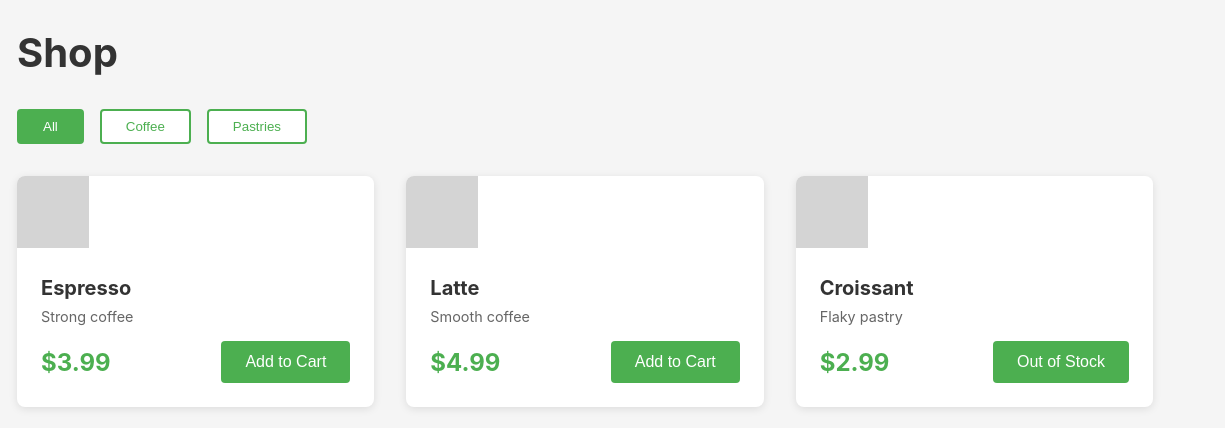
it: Shop Page › shows toast when item is added to cart
Expected: the heading "Espresso" is shown, [41,276,131,300]
Click the button "Add to Cart" next to "3.99": (286, 362) [221,341,350,383]
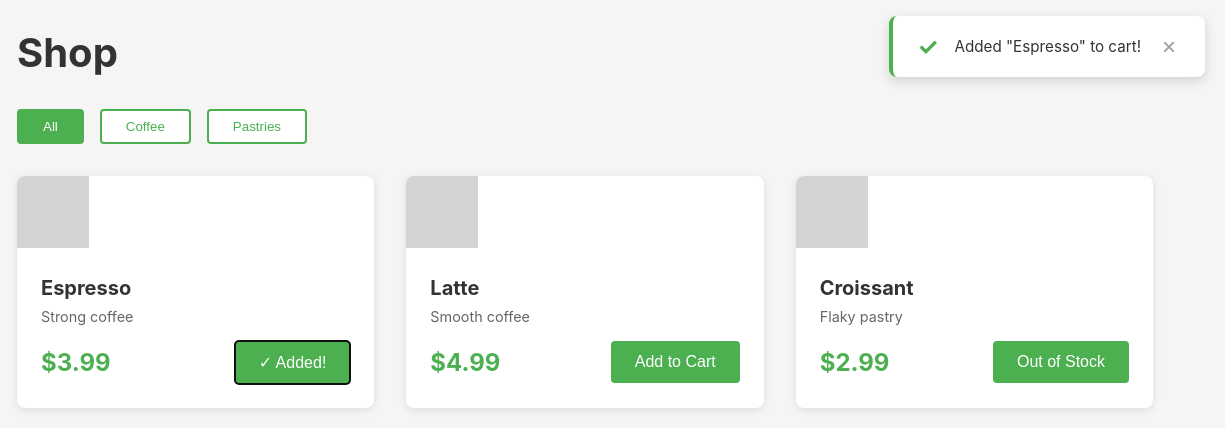
Expected: the text "Added \"Espresso\" to cart!" is shown, [954,37,1141,56]
